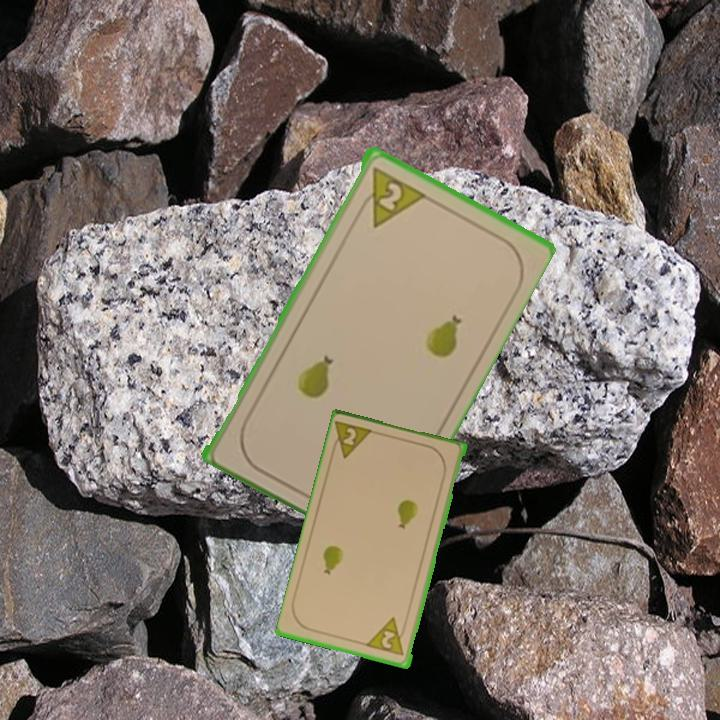2p: (354, 162, 426, 230), (328, 418, 378, 462), (364, 614, 409, 659)
